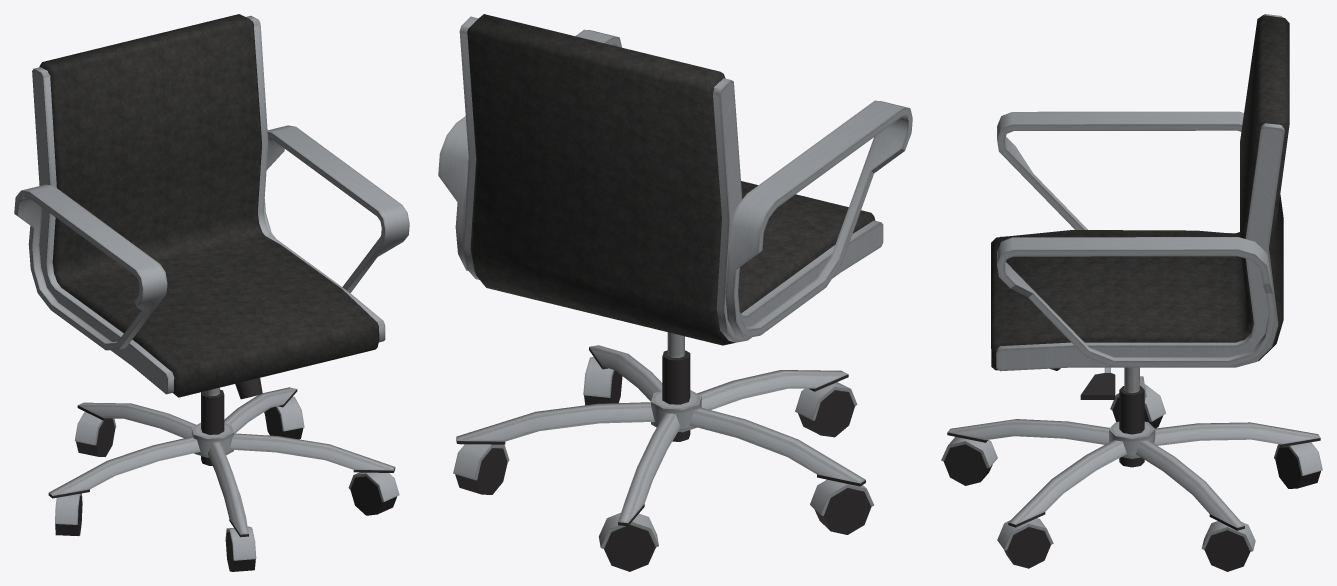
Rendered from office_chair_modern.glb.
3 views of the same model, side by side, from view 1: azimuth 30°, elevation 25°; view 2: azimuth 150°, elevation 25°; view 3: azimuth 270°, elevation 25° (orthographic). The views are drawn at different scales.
Parts seen in each view (by area): view 1: OfficeChair_Modern; view 2: OfficeChair_Modern; view 3: OfficeChair_Modern.
Boxes of the visible parts, x1,y1,x2,y2 form: OfficeChair_Modern: [14, 14, 409, 571]; OfficeChair_Modern: [438, 14, 912, 571]; OfficeChair_Modern: [941, 14, 1322, 571].
Size of the model in its own units: 0.7204 by 0.9662 by 0.7597.
Materials: 1 (1 with a texture image).
